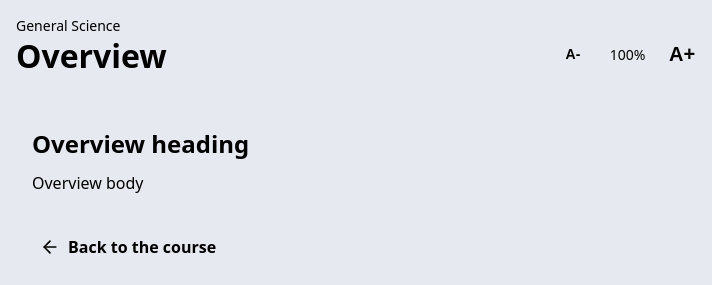
Test: ReaderScreen: ready data › Back returns to the course
The width and height of the screenshot is (712, 285).
Expected: the text "Overview body" is shown, top-left (32, 172), bottom-right (144, 194)
Click the button "Back to the course" at (128, 247), box top-left (16, 225), bottom-right (240, 269)
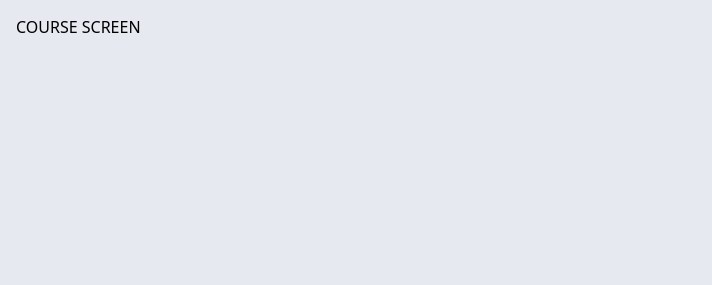
Expected: the text "COURSE SCREEN" is shown, top-left (16, 16), bottom-right (141, 38)
